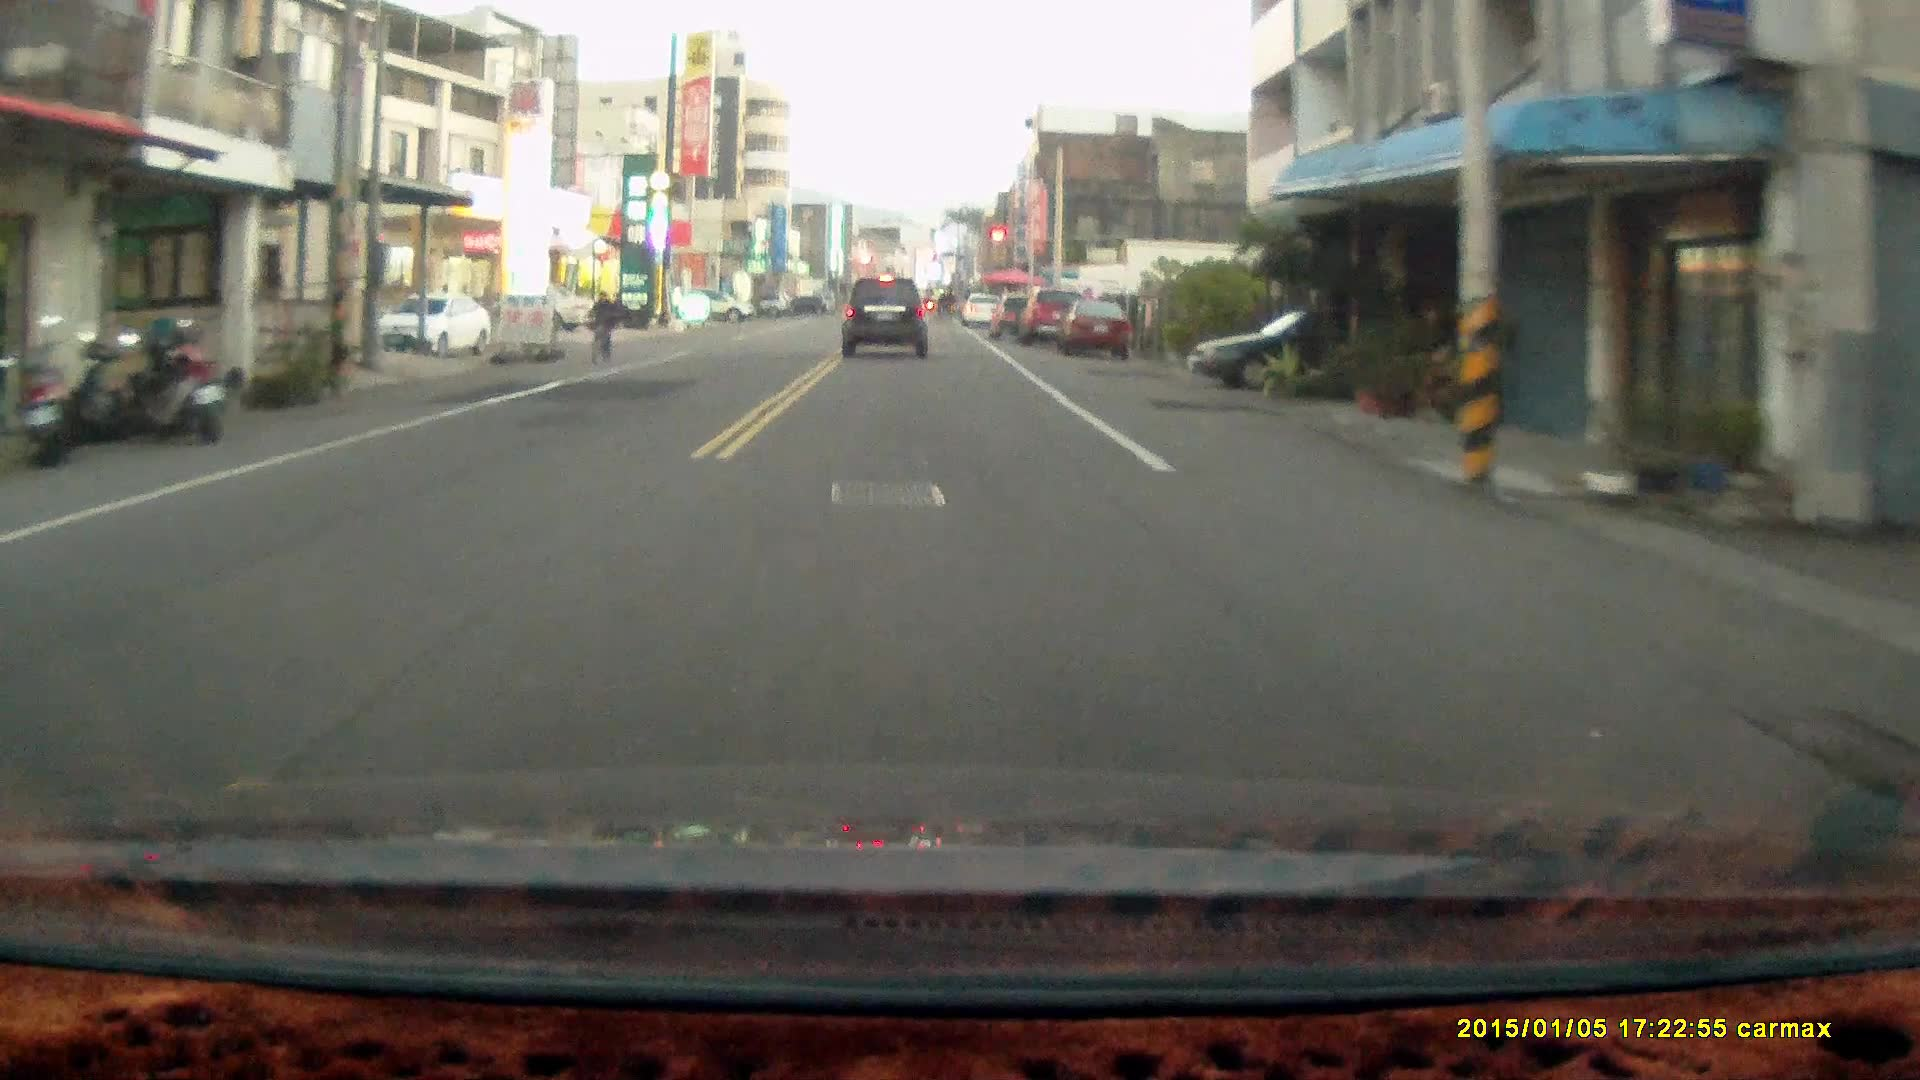rider: (587, 287, 614, 366)
vehicle: (1187, 320, 1380, 387), (839, 275, 935, 362), (383, 291, 489, 356), (484, 282, 598, 336), (1056, 297, 1135, 360), (670, 286, 756, 323)
